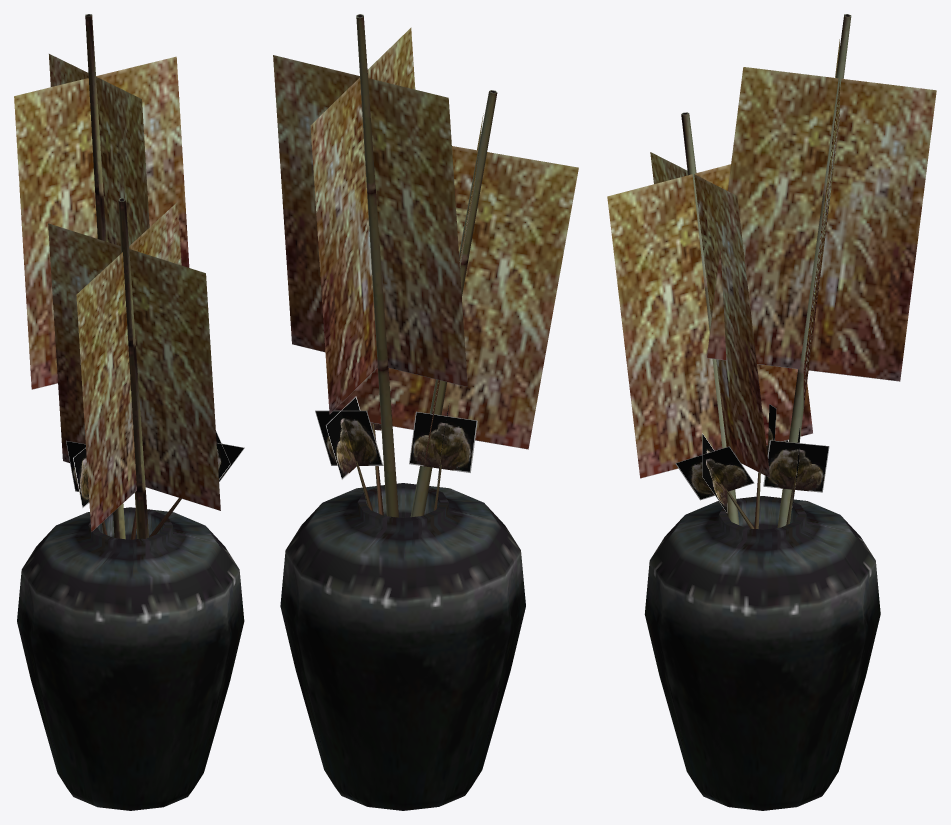
File: it_rest_single_height.fbx
3 renders of one model, left to right at view 1: azimuth 30°, elevation 25°; view 2: azimuth 150°, elevation 25°; view 3: azimuth 270°, elevation 25°, orthographic. The views are drawn at different scales.
Parts seen in each view (by area): view 1: mesh_1, mesh_0; view 2: mesh_1, mesh_0; view 3: mesh_1, mesh_0.
Boxes of the visible parts, <box> form: mesh_1: <box>14,54,244,531</box>; mesh_0: <box>17,14,244,810</box>; mesh_1: <box>273,27,578,481</box>; mesh_0: <box>280,14,525,810</box>; mesh_1: <box>607,39,936,512</box>; mesh_0: <box>644,14,880,810</box>.
Bounding box in the file's own units: 78.44 × 267 × 104.
2 materials, 2 textured.
